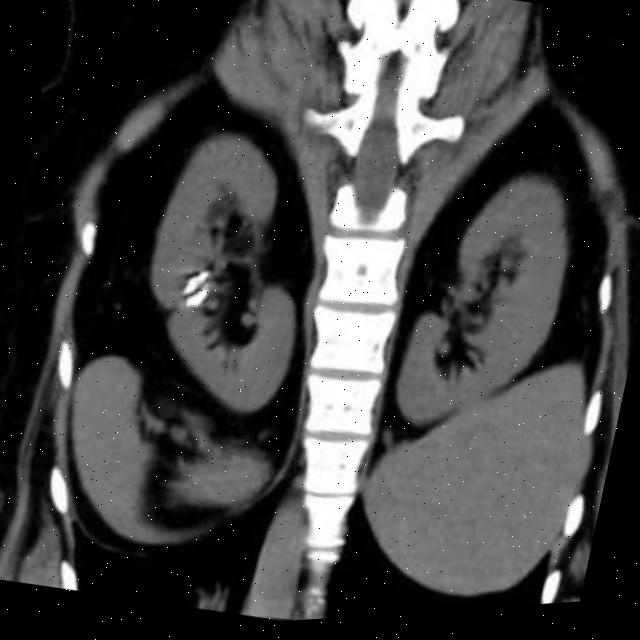Tas_Var: (181, 285, 211, 314), (178, 275, 198, 301), (194, 270, 208, 286)
